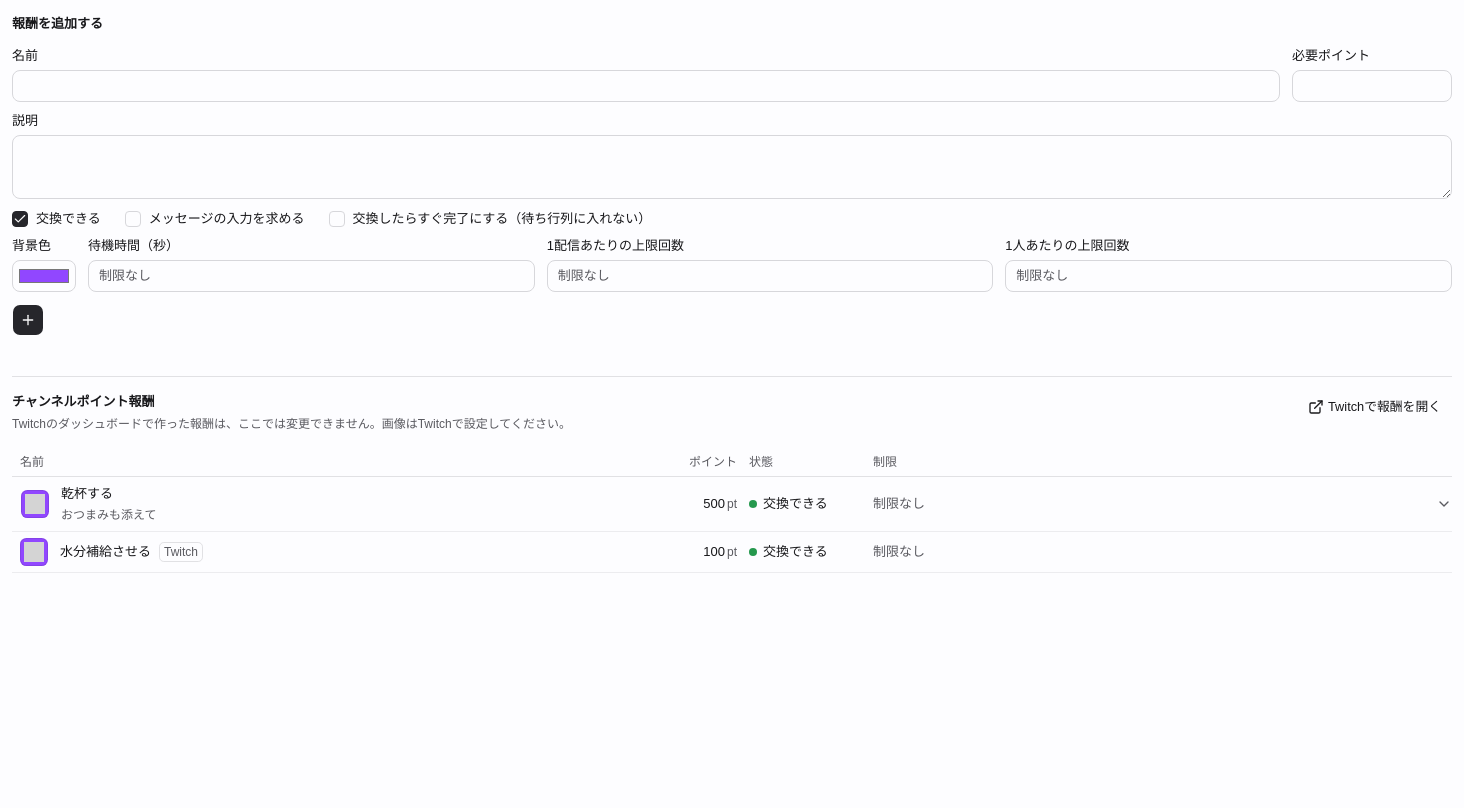
Test: 報酬の一覧 › HDADが作った報酬には、編集欄と削除のボタンを出す
Click the button "乾杯する おつまみも添えて 500pt 交換できる 制限なし" at (720, 504), box [12,477,1428,531]
(page scrolled)
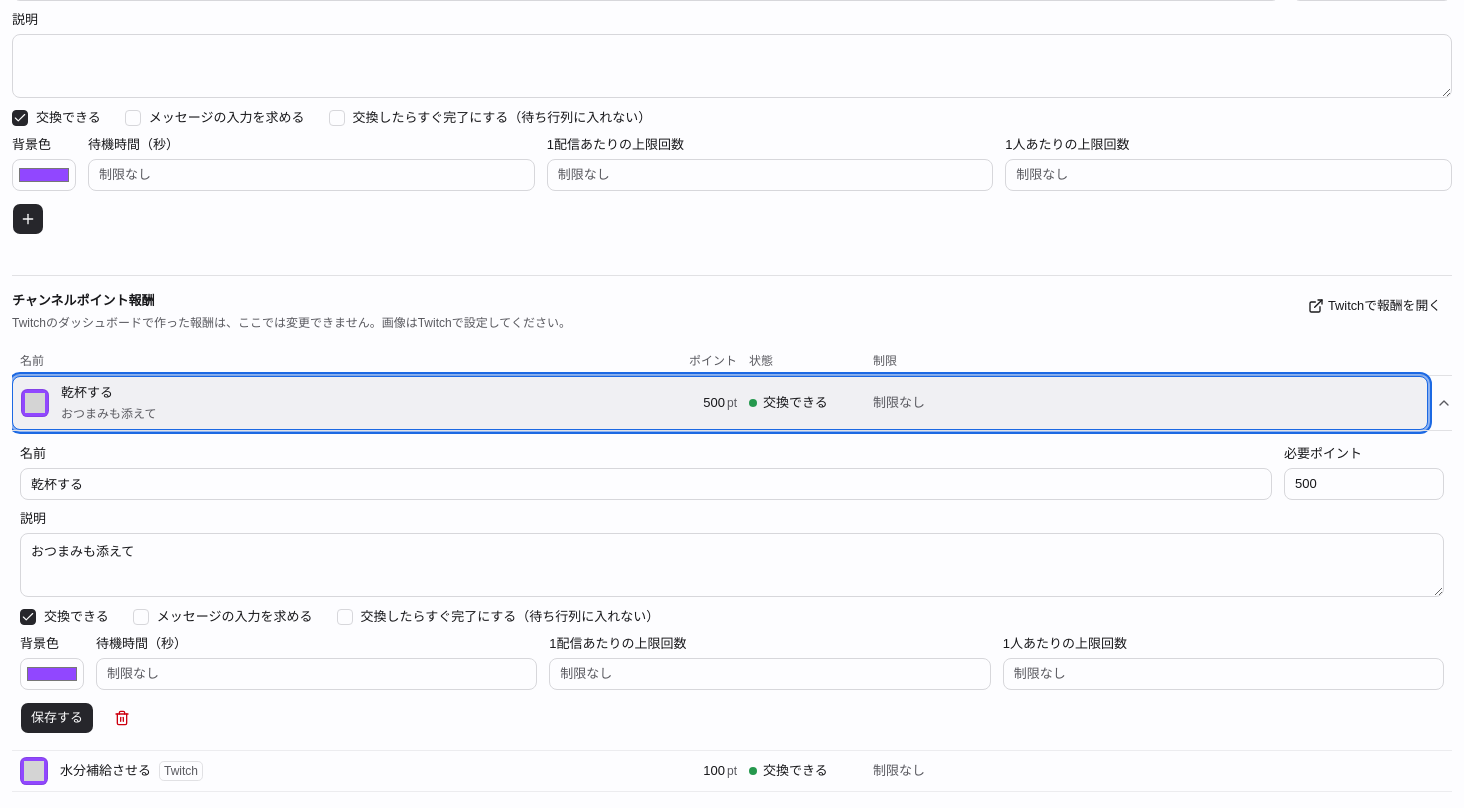
Expected: the 2nd field labelled "名前" holds "乾杯する", [20,468,1272,500]
Expected: the 2nd number field labelled "必要ポイント" holds "500", [1284,468,1444,500]
Expected: the text box labelled "説明" below "状態" holds "おつまみも添えて", [20,533,1444,597]
